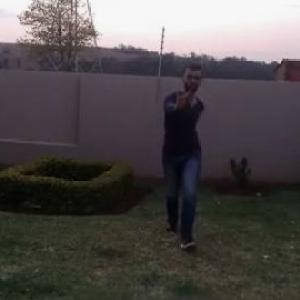takeoff-hand: (166, 81, 196, 118)
